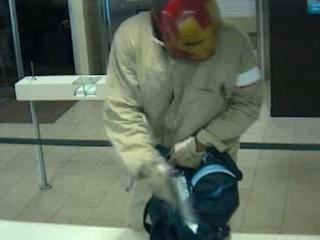criminal: (104, 0, 263, 240)
weapon: (167, 168, 198, 226)
